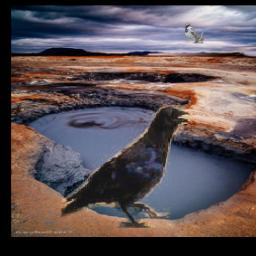Crow: (61, 105, 192, 228)
Sparrow: (185, 24, 203, 44)
